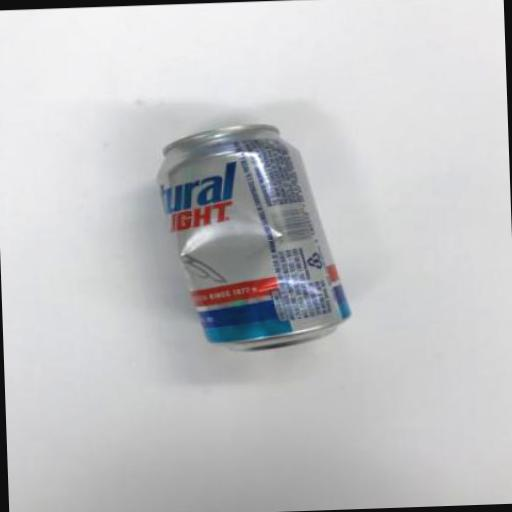metal: (154, 118, 353, 354)
